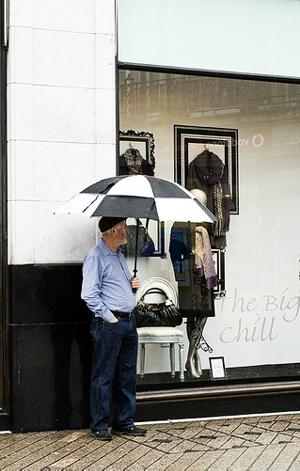person: (83, 217, 148, 441)
